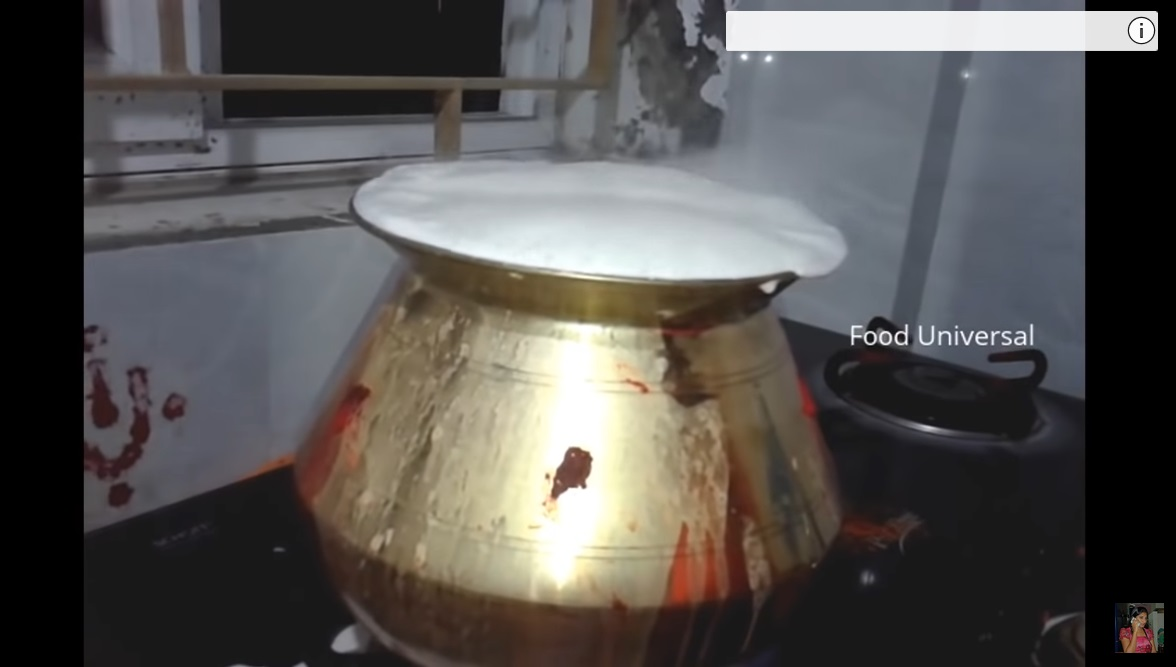Boiled: (304, 132, 854, 558)
